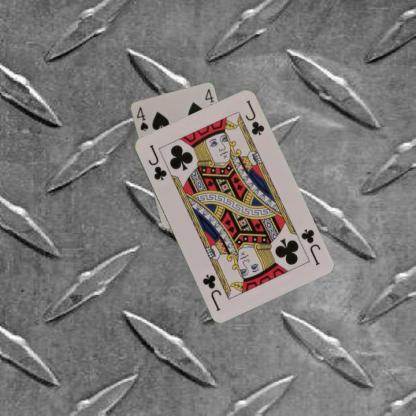4s: (134, 104, 150, 132)
Jc: (297, 226, 322, 266), (145, 142, 168, 182)
